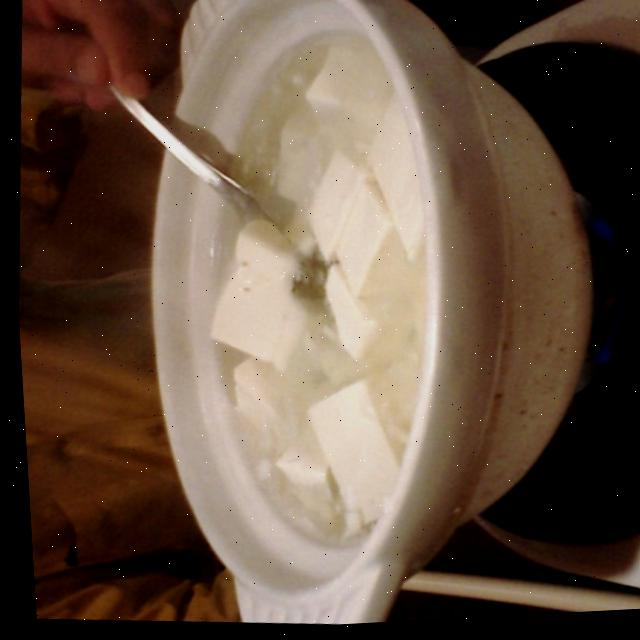豆腐料理: (78, 0, 510, 636)
